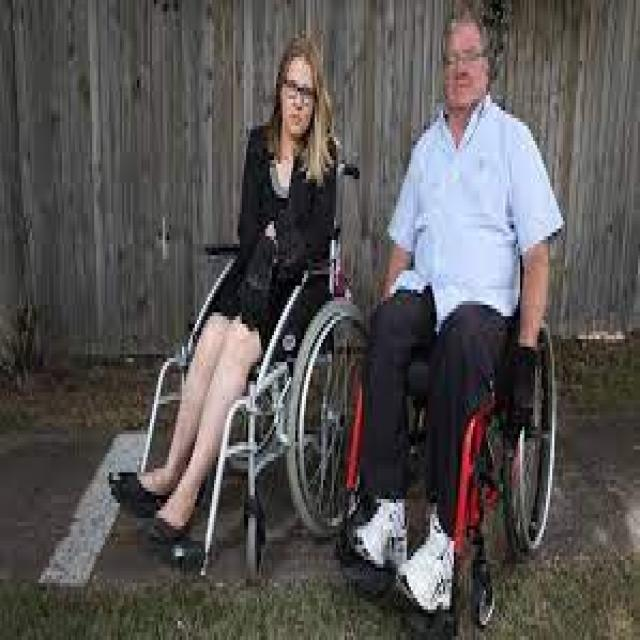wheelchairs: (111, 133, 364, 598), (342, 236, 572, 640)
